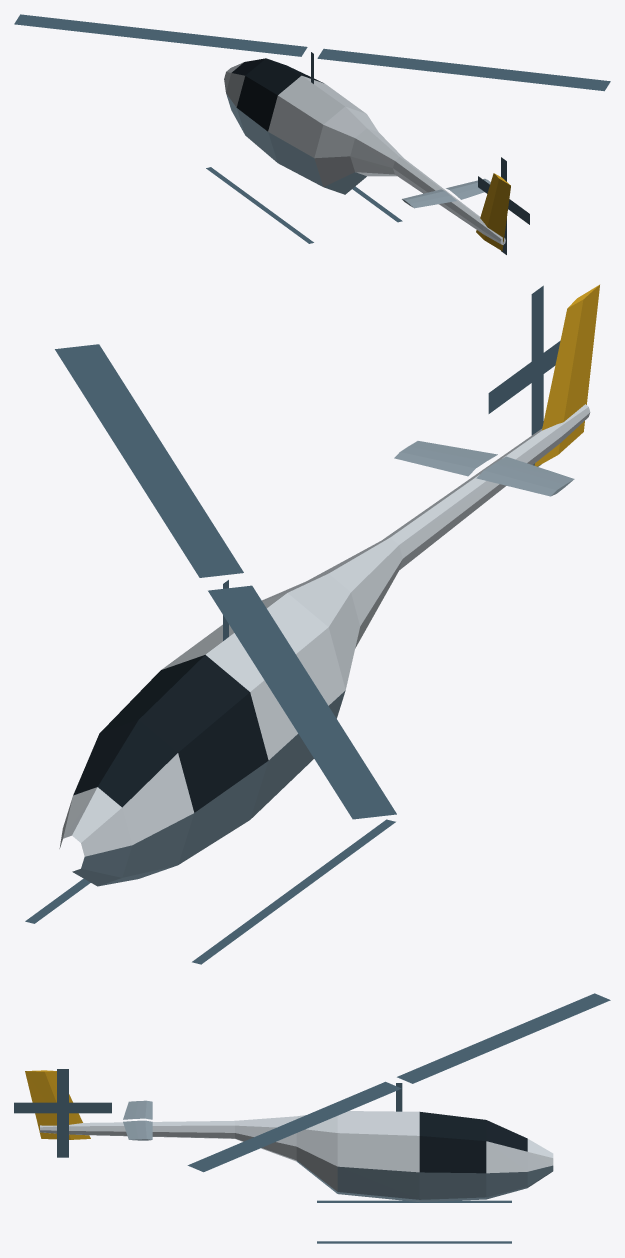
The picture shows the model from 3 angles, top to bottom: view 1: azimuth 30°, elevation 25°; view 2: azimuth 150°, elevation 25°; view 3: azimuth 270°, elevation 25°; orthographic projection. The views are drawn at different scales.
Parts seen in each view (by area): view 1: lod0; view 2: lod0; view 3: lod0.
Boxes of the visible parts, x1,y1,x2,y2 form: lod0: (14,14,610,254); lod0: (25,284,599,964); lod0: (14,993,610,1243).
Size of what is drawn, in the model's own units: 0.8253 by 0.3423 by 1.16.
